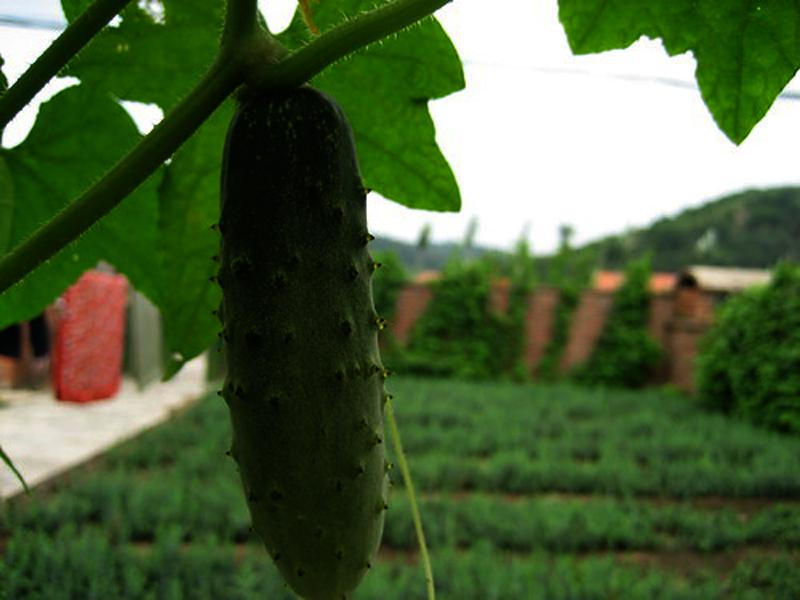Cucumber: (219, 86, 384, 598)
